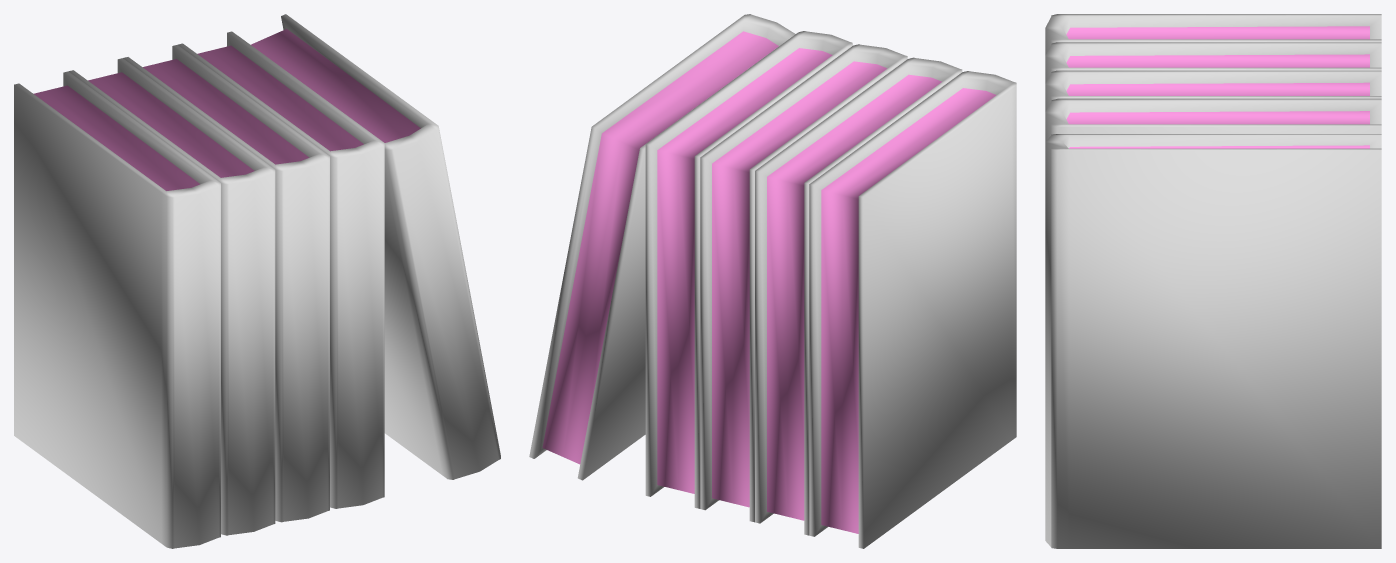
Rendered from Books_01.fbx.
3 views of the same model, side by side, from view 1: azimuth 30°, elevation 25°; view 2: azimuth 150°, elevation 25°; view 3: azimuth 270°, elevation 25° (orthographic). The views are drawn at different scales.
Parts seen in each view (by area): view 1: Books_01; view 2: Books_01; view 3: Books_01.
Boxes of the visible parts, left/top/right/bottom form: Books_01: left=14, top=14, right=500, bottom=548; Books_01: left=529, top=14, right=1016, bottom=548; Books_01: left=1045, top=14, right=1381, bottom=548.
Bounding box in the file's own units: 0.3708 × 0.3045 × 0.377.
